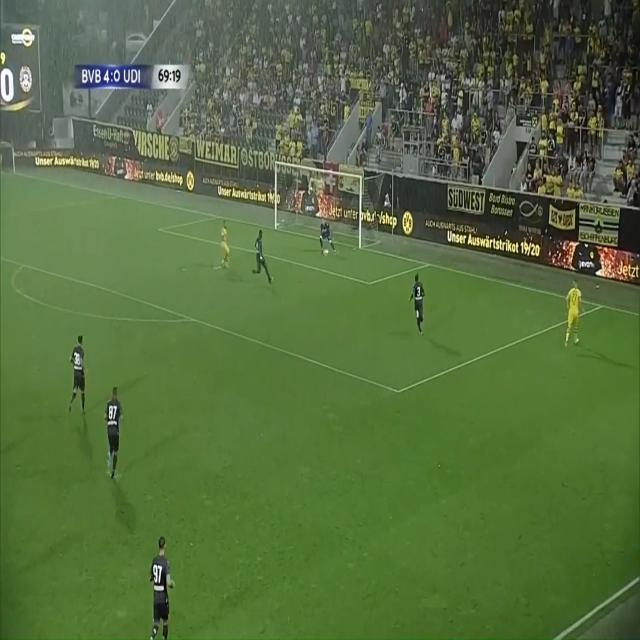ball: (323, 247, 331, 261)
goalkeeper: (319, 209, 338, 257)
player: (147, 525, 182, 640), (102, 376, 130, 485), (63, 331, 91, 427), (405, 263, 433, 339), (564, 273, 586, 356), (249, 225, 274, 295), (215, 218, 236, 283)
